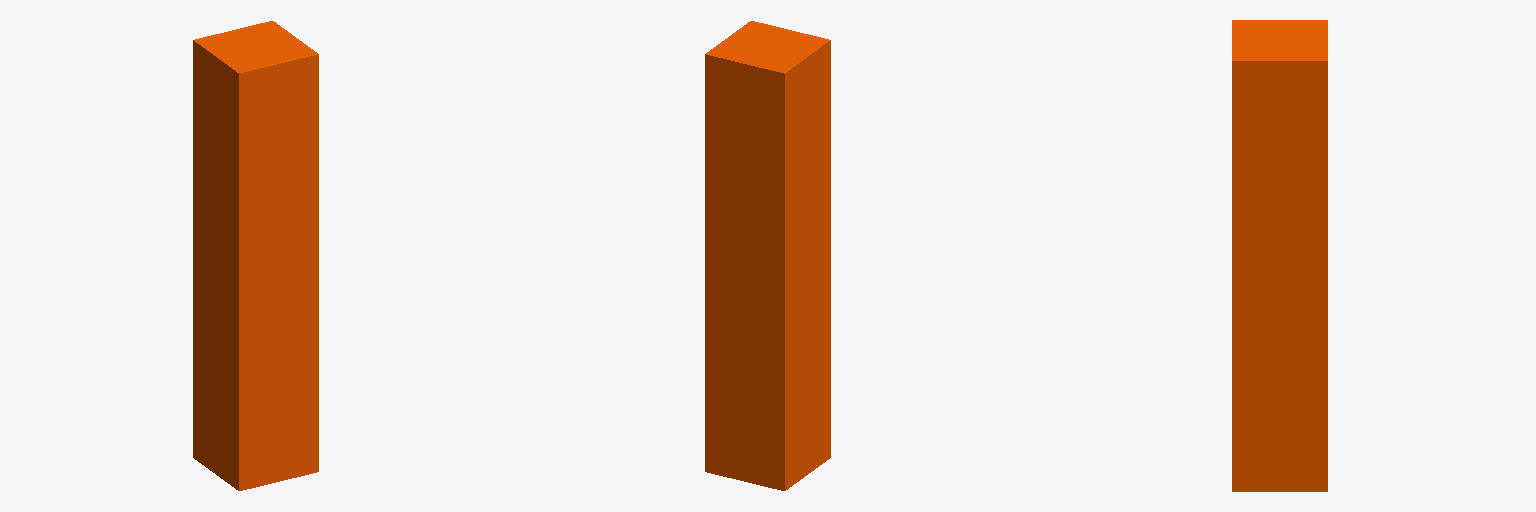
robot.urdf — ur10e:
<?xml version="1.0" ?>
<!-- =================================================================================== -->
<!-- |    This document was autogenerated by xacro from ur10e_on_stand.urdf.xacro      | -->
<!-- |    EDITING THIS FILE BY HAND IS NOT RECOMMENDED                                 | -->
<!-- =================================================================================== -->
<robot name="ur10e">
  <!-- arm base, orange block/mount for ur5 or ur10 arm -->
  <!-- ################################################################### -->
  <!-- "arm base" : make box to elevate the robot arm -->
  <!-- fix arm base, so that it does not fall -->
  <link name="world"/>
  <joint name="world_to_robot" type="fixed">
    <parent link="world"/>
    <child link="arm_base"/>
    <origin rpy="0 0 0" xyz="0 0 0"/>
  </joint>
  <link name="arm_base">
    <visual>
      <origin rpy="0 0 0" xyz="0 0 0.5"/>
      <geometry>
        <box size="0.2 0.2 1.0"/>
      </geometry>
      <material name="orange">
        <!-- rviz will read this color -->
        <color rgba="1.0 0.4235294117647059 0.0392156862745098 1.0"/>
      </material>
    </visual>
    <collision>
      <origin rpy="0 0 0" xyz="0 0 0.5"/>
      <geometry>
        <box size="0.2 0.2 1.0"/>
      </geometry>
    </collision>
    <inertial>
      <origin rpy="0 0 0" xyz="0 0 0"/>
      <mass value="8.2573504e-01"/>
      <inertia ixx="2.2124416e-03" ixy="-1.2294101e-05" ixz="3.4938785e-05" iyy="2.1193702e-03" iyz="-5.0120904e-06" izz="2.0064271e-03"/>
    </inertial>
  </link>
  <gazebo reference="arm_base">
    <material>Gazebo/Orange</material>
    <!-- gazebo will read this color -->
  </gazebo>
  <!--ur10e without ros control-->
  <!-- ################################################################### -->
  <!-- ur10e arm -->
  <!--
    Base UR robot series xacro macro.

    NOTE: this is NOT a URDF. It cannot directly be loaded by consumers
    expecting a flattened '.urdf' file. See the top-level '.xacro' for that
    (but note: that .xacro must still be processed by the xacro command).

    For use in '.launch' files: use one of the 'load_urX.launch' convenience
    launch files.

    This file models the base kinematic chain of a UR robot, which then gets
    parameterised by various configuration files to convert it into a UR3(e),
    UR5(e), UR10(e) or UR16e.

    NOTE: the default kinematic parameters (ie: link lengths, frame locations,
    offets, etc) do not correspond to any particular robot. They are defaults
    only. There WILL be non-zero offsets between the Forward Kinematics results
    in TF (ie: robot_state_publisher) and the values reported by the Teach
    Pendant.

    For accurate (and robot-specific) transforms, the 'kinematics_parameters_file'
    parameter MUST point to a .yaml file containing the appropriate values for
    the targetted robot.

    If using the UniversalRobots/Universal_Robots_ROS_Driver, follow the steps
    described in the readme of that repository to extract the kinematic
    calibration from the controller and generate the required .yaml file.

    Main author of the migration to yaml configs: [author].

    Contributors to previous versions (in no particular order):

     - [author]
     - [author]
     - [author]
     - [author]
     - [author]
     - [author]
     - [author]
     - [author]
     - [author]
     - [author]
     - [author]
     - [author]
     - [author]
     - [author]
     - [author]
     - [author]
     - [author]
  -->
  <!--
    NOTE: the macro defined in this file is NOT part of the public API of this
          package. Users CANNOT rely on this file being available, or stored in
          this location. Nor can they rely on the existence of the macro.
  -->
  <transmission name="ur10e_shoulder_pan_trans">
    <type>transmission_interface/SimpleTransmission</type>
    <joint name="ur10e_shoulder_pan_joint">
      <hardwareInterface>hardware_interface/PositionJointInterface</hardwareInterface>
    </joint>
    <actuator name="ur10e_shoulder_pan_motor">
      <mechanicalReduction>1</mechanicalReduction>
    </actuator>
  </transmission>
  <transmission name="ur10e_shoulder_lift_trans">
    <type>transmission_interface/SimpleTransmission</type>
    <joint name="ur10e_shoulder_lift_joint">
      <hardwareInterface>hardware_interface/PositionJointInterface</hardwareInterface>
    </joint>
    <actuator name="ur10e_shoulder_lift_motor">
      <mechanicalReduction>1</mechanicalReduction>
    </actuator>
  </transmission>
  <transmission name="ur10e_elbow_trans">
    <type>transmission_interface/SimpleTransmission</type>
    <joint name="ur10e_elbow_joint">
      <hardwareInterface>hardware_interface/PositionJointInterface</hardwareInterface>
    </joint>
    <actuator name="ur10e_elbow_motor">
      <mechanicalReduction>1</mechanicalReduction>
    </actuator>
  </transmission>
  <transmission name="ur10e_wrist_1_trans">
    <type>transmission_interface/SimpleTransmission</type>
    <joint name="ur10e_wrist_1_joint">
      <hardwareInterface>hardware_interface/PositionJointInterface</hardwareInterface>
    </joint>
    <actuator name="ur10e_wrist_1_motor">
      <mechanicalReduction>1</mechanicalReduction>
    </actuator>
  </transmission>
  <transmission name="ur10e_wrist_2_trans">
    <type>transmission_interface/SimpleTransmission</type>
    <joint name="ur10e_wrist_2_joint">
      <hardwareInterface>hardware_interface/PositionJointInterface</hardwareInterface>
    </joint>
    <actuator name="ur10e_wrist_2_motor">
      <mechanicalReduction>1</mechanicalReduction>
    </actuator>
  </transmission>
  <transmission name="ur10e_wrist_3_trans">
    <type>transmission_interface/SimpleTransmission</type>
    <joint name="ur10e_wrist_3_joint">
      <hardwareInterface>hardware_interface/PositionJointInterface</hardwareInterface>
    </joint>
    <actuator name="ur10e_wrist_3_motor">
      <mechanicalReduction>1</mechanicalReduction>
    </actuator>
  </transmission>
  <!-- links: main serial chain -->
  <link name="ur10e_base_link"/>
  <link name="ur10e_base_link_inertia">
    <visual>
      <origin rpy="0 0 3.141592653589793" xyz="0 0 0"/>
      <geometry>
        <mesh filename="package://ur_description/meshes/ur10e/visual/base.dae"/>
      </geometry>
      <material name="LightGrey">
        <color rgba="0.7 0.7 0.7 1.0"/>
      </material>
    </visual>
    <collision>
      <origin rpy="0 0 3.141592653589793" xyz="0 0 0"/>
      <geometry>
        <mesh filename="package://ur_description/meshes/ur10e/collision/base.stl"/>
      </geometry>
    </collision>
    <inertial>
      <mass value="4.0"/>
      <origin rpy="0 0 0" xyz="0 0 0"/>
      <inertia ixx="0.0061063308908" ixy="0.0" ixz="0.0" iyy="0.0061063308908" iyz="0.0" izz="0.01125"/>
    </inertial>
  </link>
  <link name="ur10e_shoulder_link">
    <visual>
      <origin rpy="0 0 3.141592653589793" xyz="0 0 0"/>
      <geometry>
        <mesh filename="package://ur_description/meshes/ur10e/visual/shoulder.dae"/>
      </geometry>
      <material name="LightGrey">
        <color rgba="0.7 0.7 0.7 1.0"/>
      </material>
    </visual>
    <collision>
      <origin rpy="0 0 3.141592653589793" xyz="0 0 0"/>
      <geometry>
        <mesh filename="package://ur_description/meshes/ur10e/collision/shoulder.stl"/>
      </geometry>
    </collision>
    <inertial>
      <mass value="7.778"/>
      <origin rpy="0 0 0" xyz="0 0 0"/>
      <inertia ixx="0.03147431257693659" ixy="0.0" ixz="0.0" iyy="0.03147431257693659" iyz="0.0" izz="0.021875624999999996"/>
    </inertial>
  </link>
  <link name="ur10e_upper_arm_link">
    <visual>
      <origin rpy="1.5707963267948966 0 -1.5707963267948966" xyz="0 0 0.1762"/>
      <geometry>
        <mesh filename="package://ur_description/meshes/ur10e/visual/upperarm.dae"/>
      </geometry>
      <material name="LightGrey">
        <color rgba="0.7 0.7 0.7 1.0"/>
      </material>
    </visual>
    <collision>
      <origin rpy="1.5707963267948966 0 -1.5707963267948966" xyz="0 0 0.1762"/>
      <geometry>
        <mesh filename="package://ur_description/meshes/ur10e/collision/upperarm.stl"/>
      </geometry>
    </collision>
    <inertial>
      <mass value="12.93"/>
      <origin rpy="0 1.5707963267948966 0" xyz="-0.306 0.0 0.175"/>
      <inertia ixx="0.42175380379841093" ixy="0.0" ixz="0.0" iyy="0.42175380379841093" iyz="0.0" izz="0.03636562499999999"/>
    </inertial>
  </link>
  <link name="ur10e_forearm_link">
    <visual>
      <origin rpy="1.5707963267948966 0 -1.5707963267948966" xyz="0 0 0.0393"/>
      <geometry>
        <mesh filename="package://ur_description/meshes/ur10e/visual/forearm.dae"/>
      </geometry>
      <material name="LightGrey">
        <color rgba="0.7 0.7 0.7 1.0"/>
      </material>
    </visual>
    <collision>
      <origin rpy="1.5707963267948966 0 -1.5707963267948966" xyz="0 0 0.0393"/>
      <geometry>
        <mesh filename="package://ur_description/meshes/ur10e/collision/forearm.stl"/>
      </geometry>
    </collision>
    <inertial>
      <mass value="3.87"/>
      <origin rpy="0 1.5707963267948966 0" xyz="-0.285775 0.0 0.0393"/>
      <inertia ixx="0.11079302548902206" ixy="0.0" ixz="0.0" iyy="0.11079302548902206" iyz="0.0" izz="0.010884375"/>
    </inertial>
  </link>
  <link name="ur10e_wrist_1_link">
    <visual>
      <!-- TODO: Move this to a parameter -->
      <origin rpy="1.5707963267948966 0 0" xyz="0 0 -0.135"/>
      <geometry>
        <mesh filename="package://ur_description/meshes/ur10e/visual/wrist1.dae"/>
      </geometry>
      <material name="LightGrey">
        <color rgba="0.7 0.7 0.7 1.0"/>
      </material>
    </visual>
    <collision>
      <origin rpy="1.5707963267948966 0 0" xyz="0 0 -0.135"/>
      <geometry>
        <mesh filename="package://ur_description/meshes/ur10e/collision/wrist1.stl"/>
      </geometry>
    </collision>
    <inertial>
      <mass value="1.96"/>
      <origin rpy="0 0 0" xyz="0 0 0"/>
      <inertia ixx="0.005108247956699999" ixy="0.0" ixz="0.0" iyy="0.005108247956699999" iyz="0.0" izz="0.005512499999999999"/>
    </inertial>
  </link>
  <link name="ur10e_wrist_2_link">
    <visual>
      <origin rpy="0 0 0" xyz="0 0 -0.12"/>
      <geometry>
        <mesh filename="package://ur_description/meshes/ur10e/visual/wrist2.dae"/>
      </geometry>
      <material name="LightGrey">
        <color rgba="0.7 0.7 0.7 1.0"/>
      </material>
    </visual>
    <collision>
      <origin rpy="0 0 0" xyz="0 0 -0.12"/>
      <geometry>
        <mesh filename="package://ur_description/meshes/ur10e/collision/wrist2.stl"/>
      </geometry>
    </collision>
    <inertial>
      <mass value="1.96"/>
      <origin rpy="0 0 0" xyz="0 0 0"/>
      <inertia ixx="0.005108247956699999" ixy="0.0" ixz="0.0" iyy="0.005108247956699999" iyz="0.0" izz="0.005512499999999999"/>
    </inertial>
  </link>
  <link name="ur10e_wrist_3_link">
    <visual>
      <origin rpy="1.5707963267948966 0 0" xyz="0 0 -0.1168"/>
      <geometry>
        <mesh filename="package://ur_description/meshes/ur10e/visual/wrist3.dae"/>
      </geometry>
      <material name="LightGrey">
        <color rgba="0.7 0.7 0.7 1.0"/>
      </material>
    </visual>
    <collision>
      <origin rpy="1.5707963267948966 0 0" xyz="0 0 -0.1168"/>
      <geometry>
        <mesh filename="package://ur_description/meshes/ur10e/collision/wrist3.stl"/>
      </geometry>
    </collision>
    <inertial>
      <mass value="0.202"/>
      <origin rpy="0 0 0" xyz="0.0 0.0 -0.025"/>
      <inertia ixx="0.00014434577559500002" ixy="0.0" ixz="0.0" iyy="0.00014434577559500002" iyz="0.0" izz="0.00020452500000000002"/>
    </inertial>
  </link>
  <!-- joints: main serial chain -->
  <joint name="ur10e_base_link-base_link_inertia" type="fixed">
    <parent link="ur10e_base_link"/>
    <child link="ur10e_base_link_inertia"/>
    <!-- 'base_link' is REP-103 aligned (so X+ forward), while the internal
           frames of the robot/controller have X+ pointing backwards.
           Use the joint between 'base_link' and 'base_link_inertia' (a dummy
           link/frame) to introduce the necessary rotation over Z (of pi rad).
      -->
    <origin rpy="0 0 3.141592653589793" xyz="0 0 0"/>
  </joint>
  <joint name="ur10e_shoulder_pan_joint" type="revolute">
    <parent link="ur10e_base_link_inertia"/>
    <child link="ur10e_shoulder_link"/>
    <origin rpy="0 0 0" xyz="0 0 0.1807"/>
    <axis xyz="0 0 1"/>
    <limit effort="330.0" lower="-6.283185307179586" upper="6.283185307179586" velocity="2.0943951023931953"/>
    <dynamics damping="0" friction="0"/>
  </joint>
  <joint name="ur10e_shoulder_lift_joint" type="revolute">
    <parent link="ur10e_shoulder_link"/>
    <child link="ur10e_upper_arm_link"/>
    <origin rpy="1.570796327 0 0" xyz="0 0 0"/>
    <axis xyz="0 0 1"/>
    <limit effort="330.0" lower="-6.283185307179586" upper="6.283185307179586" velocity="2.0943951023931953"/>
    <dynamics damping="0" friction="0"/>
  </joint>
  <joint name="ur10e_elbow_joint" type="revolute">
    <parent link="ur10e_upper_arm_link"/>
    <child link="ur10e_forearm_link"/>
    <origin rpy="0 0 0" xyz="-0.6127 0 0"/>
    <axis xyz="0 0 1"/>
    <limit effort="150.0" lower="-3.141592653589793" upper="3.141592653589793" velocity="3.141592653589793"/>
    <dynamics damping="0" friction="0"/>
  </joint>
  <joint name="ur10e_wrist_1_joint" type="revolute">
    <parent link="ur10e_forearm_link"/>
    <child link="ur10e_wrist_1_link"/>
    <origin rpy="0 0 0" xyz="-0.57155 0 0.17415"/>
    <axis xyz="0 0 1"/>
    <limit effort="56.0" lower="-6.283185307179586" upper="6.283185307179586" velocity="3.141592653589793"/>
    <dynamics damping="0" friction="0"/>
  </joint>
  <joint name="ur10e_wrist_2_joint" type="revolute">
    <parent link="ur10e_wrist_1_link"/>
    <child link="ur10e_wrist_2_link"/>
    <origin rpy="1.570796327 0 0" xyz="0 -0.11985 -2.458164590756244e-11"/>
    <axis xyz="0 0 1"/>
    <limit effort="56.0" lower="-6.283185307179586" upper="6.283185307179586" velocity="3.141592653589793"/>
    <dynamics damping="0" friction="0"/>
  </joint>
  <joint name="ur10e_wrist_3_joint" type="revolute">
    <parent link="ur10e_wrist_2_link"/>
    <child link="ur10e_wrist_3_link"/>
    <origin rpy="1.570796326589793 3.141592653589793 3.141592653589793" xyz="0 0.11655 -2.390480459346185e-11"/>
    <axis xyz="0 0 1"/>
    <limit effort="56.0" lower="-6.283185307179586" upper="6.283185307179586" velocity="3.141592653589793"/>
    <dynamics damping="0" friction="0"/>
  </joint>
  <!-- ROS-Industrial 'base' frame: base_link to UR 'Base' Coordinates transform -->
  <link name="ur10e_base"/>
  <joint name="ur10e_base_link-base_fixed_joint" type="fixed">
    <!-- Note the rotation over Z of pi radians: as base_link is REP-103
           aligned (ie: has X+ forward, Y+ left and Z+ up), this is needed
           to correctly align 'base' with the 'Base' coordinate system of
           the UR controller.
      -->
    <origin rpy="0 0 3.141592653589793" xyz="0 0 0"/>
    <parent link="ur10e_base_link"/>
    <child link="ur10e_base"/>
  </joint>
  <!-- ROS-Industrial 'flange' frame: attachment point for EEF models -->
  <link name="ur10e_flange"/>
  <joint name="ur10e_wrist_3-flange" type="fixed">
    <parent link="ur10e_wrist_3_link"/>
    <child link="ur10e_flange"/>
    <origin rpy="0 -1.5707963267948966 -1.5707963267948966" xyz="0 0 0"/>
  </joint>
  <!-- ROS-Industrial 'tool0' frame: all-zeros tool frame -->
  <link name="ur10e_tool0"/>
  <joint name="ur10e_flange-tool0" type="fixed">
    <!-- default toolframe: X+ left, Y+ up, Z+ front -->
    <origin rpy="1.5707963267948966 0 1.5707963267948966" xyz="0 0 0"/>
    <parent link="ur10e_flange"/>
    <child link="ur10e_tool0"/>
  </joint>
  <!-- ################################################################### -->
  <!-- attach "arm" and "arm base" -->
  <joint name="arm_base_to_arm" type="fixed">
    <parent link="arm_base"/>
    <child link="ur10e_base_link"/>
    <origin rpy="0 0 0" xyz="0 0 1.0"/>
  </joint>
  <!-- ros control -->
  <gazebo>
    <plugin filename="libgazebo_ros_control.so" name="ros_control">
      <robotNamespace>/ur10e</robotNamespace>
    </plugin>
  </gazebo>
</robot>

--- Facts derived from the render (not from the file) ---
The picture shows the robot from 3 angles, left to right: view 1: azimuth 30°, elevation 25°; view 2: azimuth 150°, elevation 25°; view 3: azimuth 270°, elevation 25°; orthographic projection.
Model ur10e with 13 links and 12 joints (6 revolute, 6 fixed), rooted at world, posed every joint at zero.
Links seen in each view (by area): view 1: arm_base; view 2: arm_base; view 3: arm_base.
Boxes of the visible links, x1=… form: arm_base: x1=193, y1=21, x2=318, y2=490; arm_base: x1=705, y1=21, x2=830, y2=490; arm_base: x1=1232, y1=20, x2=1327, y2=491.
Bounding box of the posed robot: 0.2 × 0.2 × 1 m (x, y, z).
0 mesh visuals loaded from 7 distinct referenced files (none loaded); not drawn: 7 (reference not matched to a file when rendering).